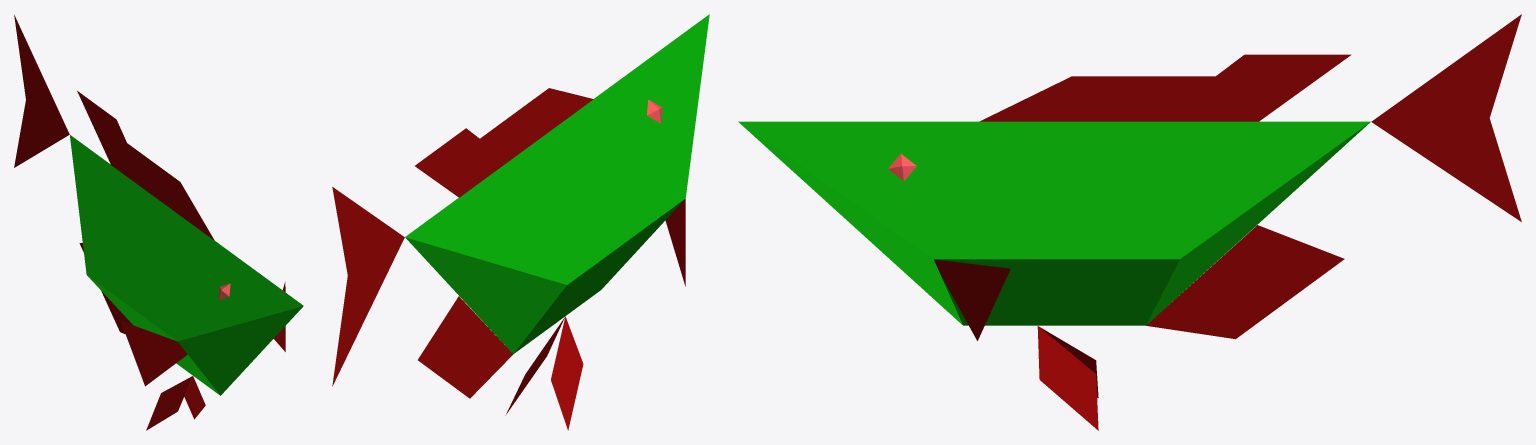
Rendered from fish.fbx.
3 renders of one model, left to right at view 1: azimuth 30°, elevation 25°; view 2: azimuth 150°, elevation 25°; view 3: azimuth 270°, elevation 25°, orthographic. The views are drawn at different scales.
Parts seen in each view (by area): view 1: Cube; view 2: Cube; view 3: Cube.
Boxes of the visible parts, bbox=[...] form: Cube: bbox=[14, 14, 303, 430]; Cube: bbox=[332, 14, 709, 430]; Cube: bbox=[738, 14, 1521, 430].
Size of the model in its own units: 229 by 393 by 696.
1 material, 1 textured.
